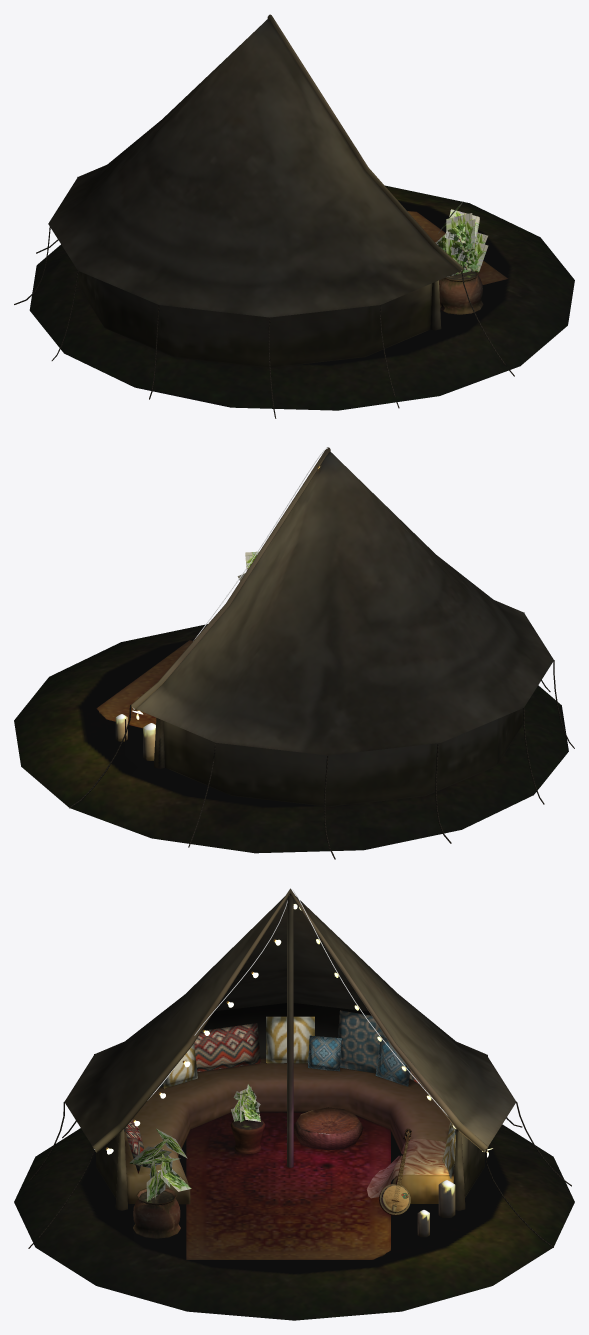
The model's file is dae-5-finished-props--echo-house-3f2c8e.glb.
The picture shows the model from 3 angles, top to bottom: view 1: azimuth 30°, elevation 25°; view 2: azimuth 150°, elevation 25°; view 3: azimuth 270°, elevation 25°; orthographic projection.
Parts seen in each view (by area): view 1: PropMesh; view 2: PropMesh; view 3: PropMesh.
Boxes of the visible parts, bbox=[...] form: PropMesh: bbox=[14, 14, 574, 418]; PropMesh: bbox=[14, 447, 574, 859]; PropMesh: bbox=[14, 888, 574, 1320].
Bounding box in the file's own units: 3.78 × 2.2 × 3.7.
9 materials, 8 textured.
